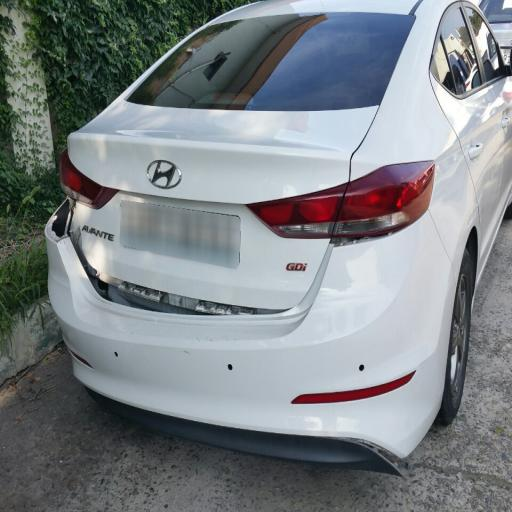broken: (28, 144, 328, 359)
